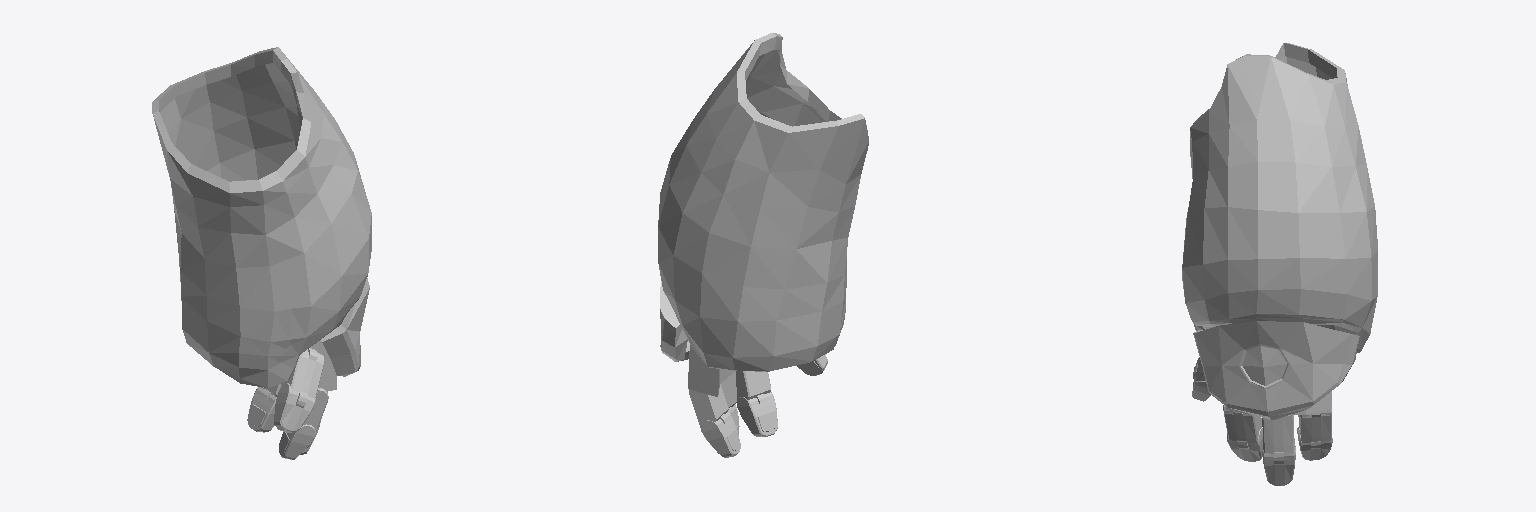
The model's file is Right_hand-1.obj.
3 views of the same model, side by side, from view 1: azimuth 30°, elevation 25°; view 2: azimuth 150°, elevation 25°; view 3: azimuth 270°, elevation 25° (orthographic).
Parts seen in each view (by area): view 1: polySurface247; view 2: polySurface247; view 3: polySurface247.
Part boxes in pixels (x1,y1,x2,y2): polySurface247: (152, 47, 371, 459); polySurface247: (658, 33, 868, 457); polySurface247: (1182, 43, 1377, 485).
Size of the model in its own units: 2.4 by 4.76 by 2.03.